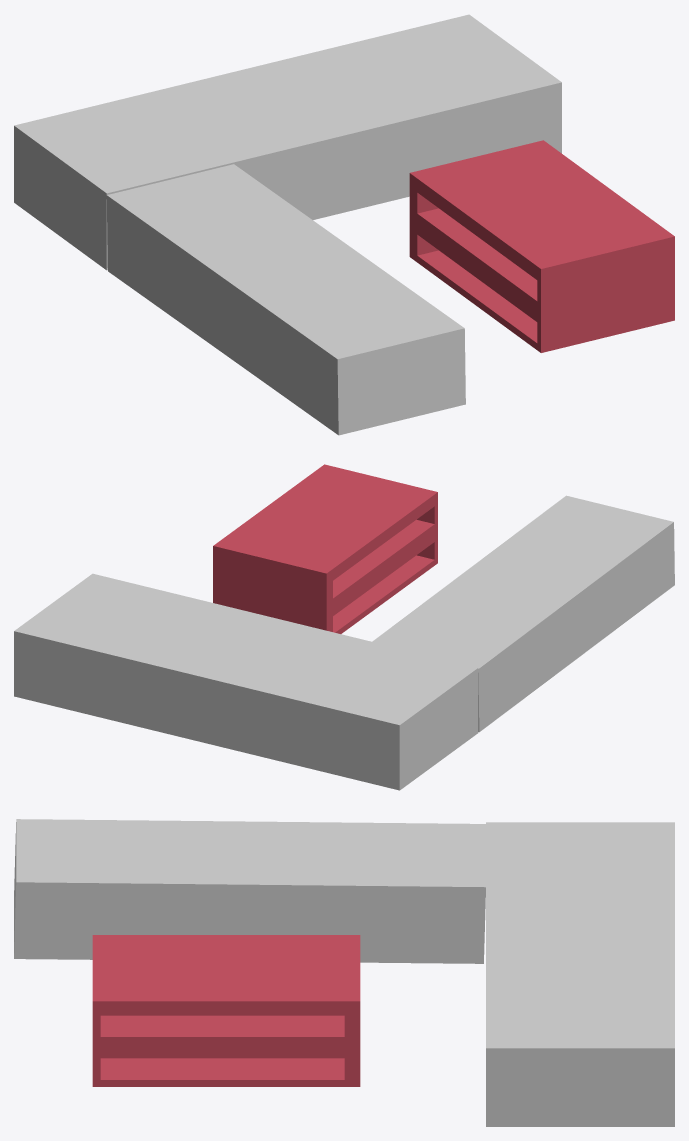
Rendered from sofa.glb.
3 renders of one model, top to bottom at view 1: azimuth 30°, elevation 25°; view 2: azimuth 150°, elevation 25°; view 3: azimuth 270°, elevation 25°, orthographic. The views are drawn at different scales.
Visible parts, largest first — view 1: Mesh_Mesh_head_geo.001_lambert2SG.001; view 2: Mesh_Mesh_head_geo.001_lambert2SG.001; view 3: Mesh_Mesh_head_geo.001_lambert2SG.001.
Part boxes in pixels (x1,y1,x2,y2): Mesh_Mesh_head_geo.001_lambert2SG.001: (14, 14, 674, 435); Mesh_Mesh_head_geo.001_lambert2SG.001: (14, 464, 674, 790); Mesh_Mesh_head_geo.001_lambert2SG.001: (14, 819, 674, 1126).
Bounding box in the file's own units: 68 × 12 × 84.
